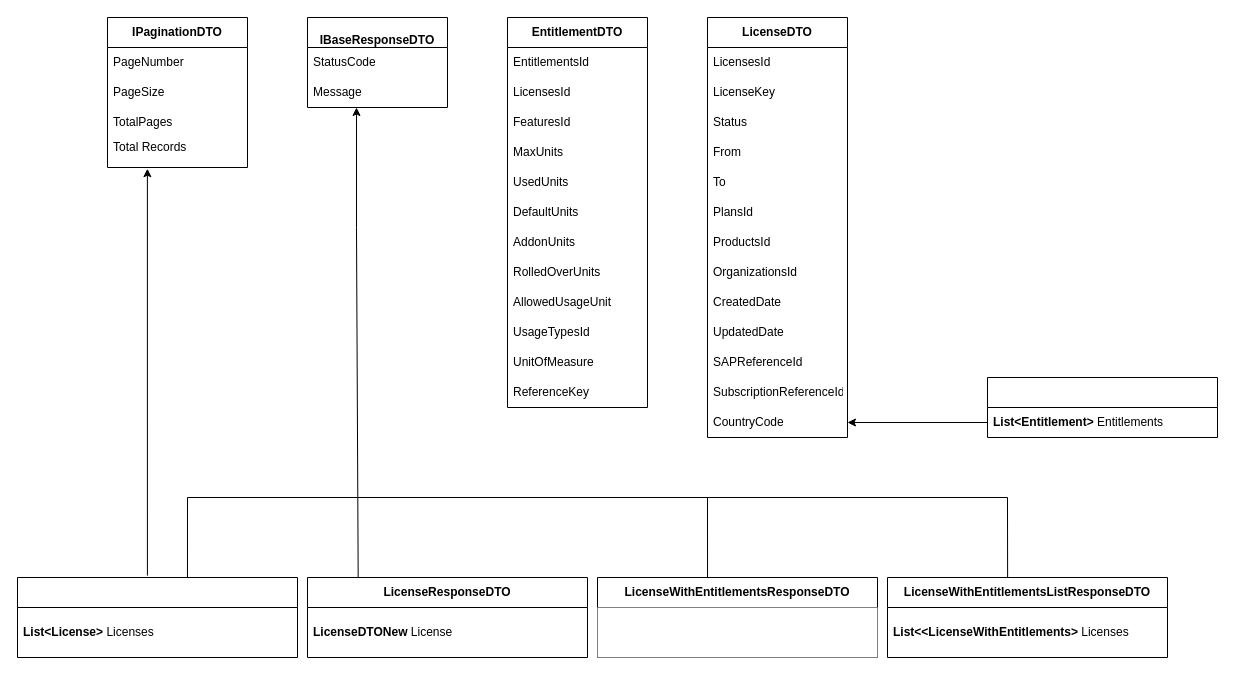
Some shapes in this 1235 by 675 pixel diagram are drawn without their labels. The box of each missing label's shape, as (x1, y1, x2, y2) in pixels:
LicenseWithEntitlements License: (597, 607, 877, 657)
LicenseWithEntitlementsDTO: (986, 376, 1218, 438)
LicensListWithPaginationResponseDTO: (16, 576, 298, 658)
